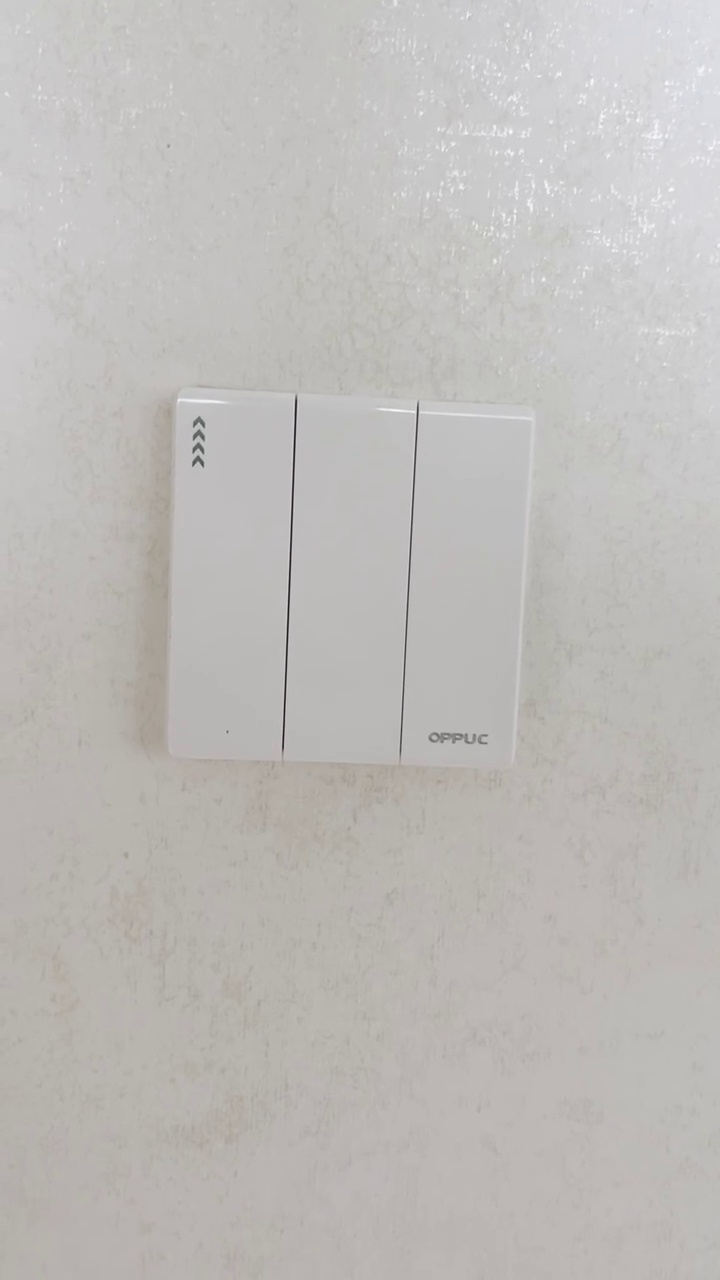button1: (172, 393, 292, 757), (289, 399, 409, 761), (408, 404, 526, 768)
